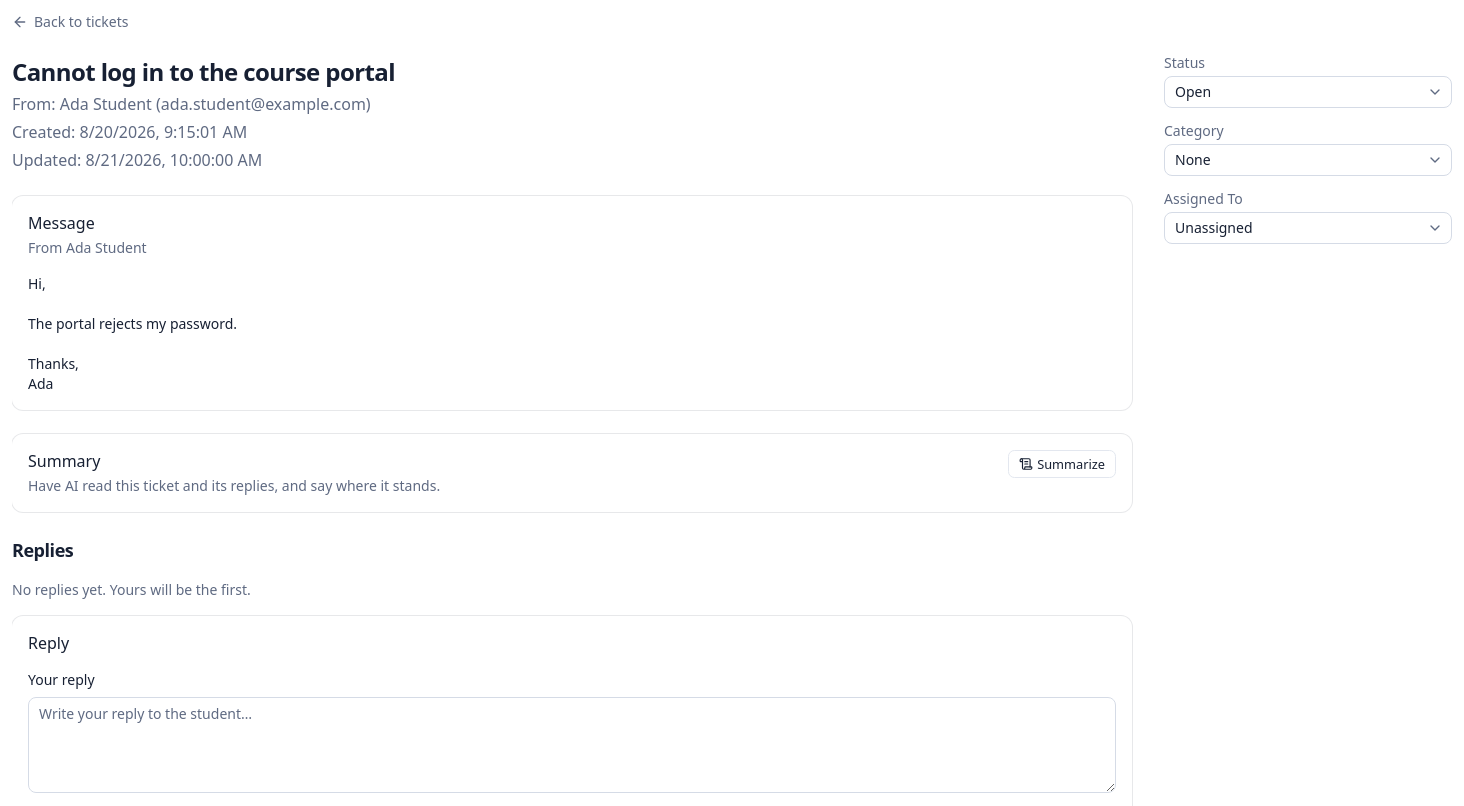
Test case: TicketDetailPage › category › classifies an unclassified ticket
Check: the heading "Cannot log in to the course portal" is shown, box [12,55,395,88]
Click the dropdown named "category" at {"x": 1193, "y": 160}, box [1164,144,1452,176]
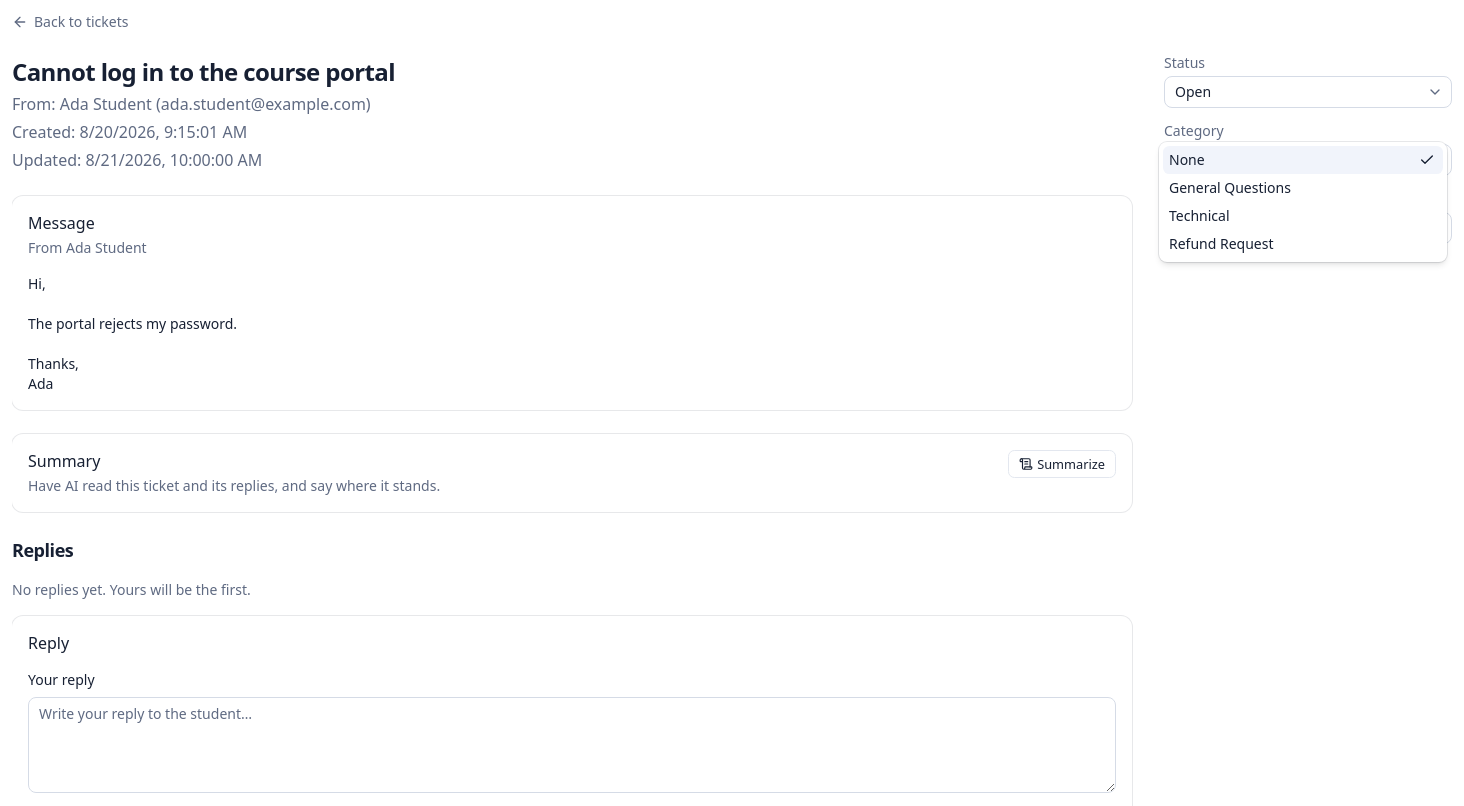
Click the option "Refund Request" at {"x": 1221, "y": 244}, box [1169,234,1274,253]
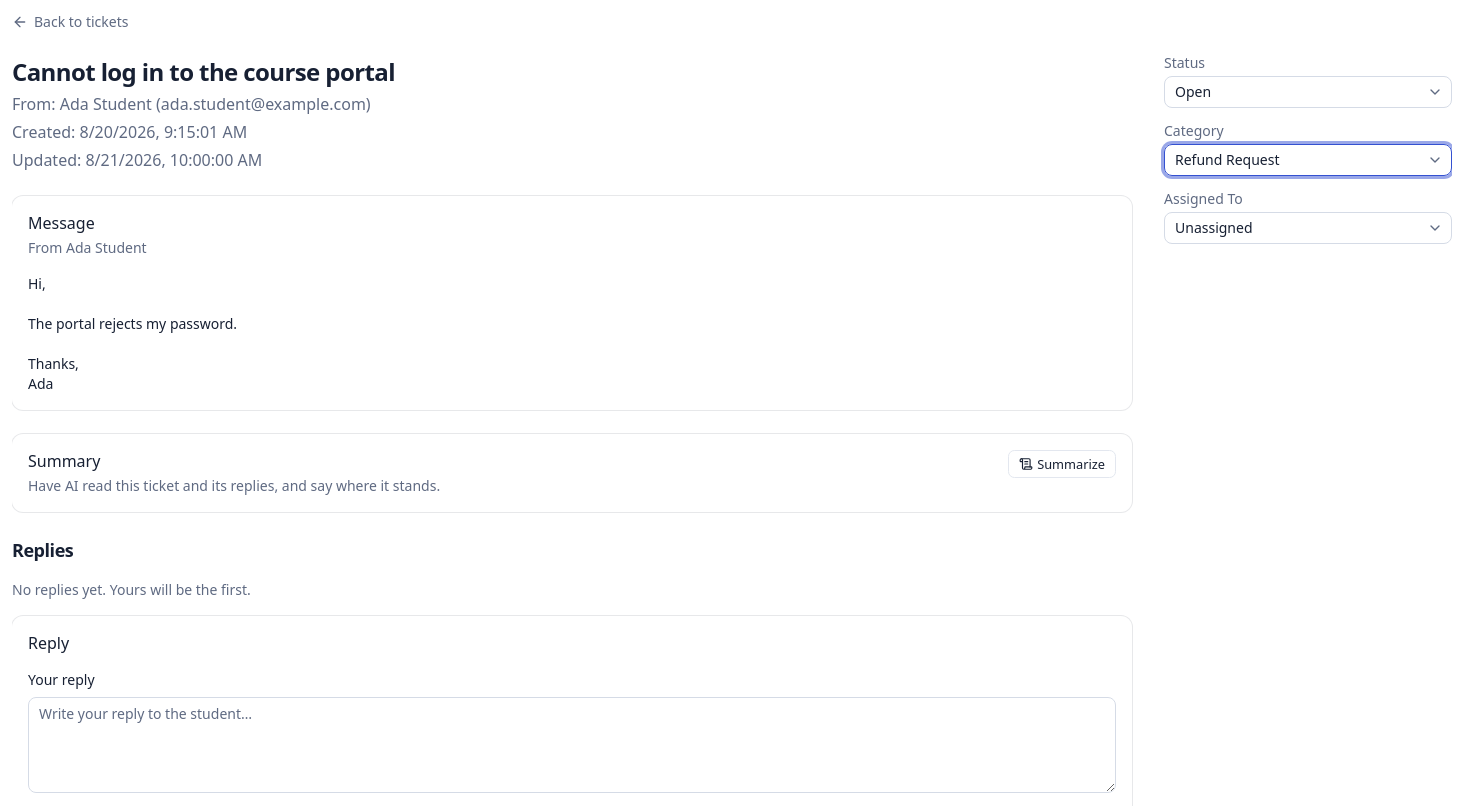
Check: the dropdown named "category" shows "Refund Request", box [1164,144,1452,176]
